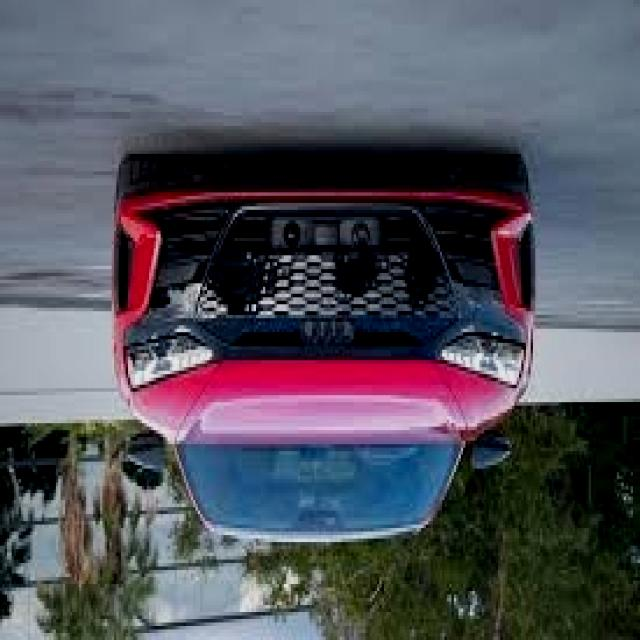red: (113, 145, 538, 542)
